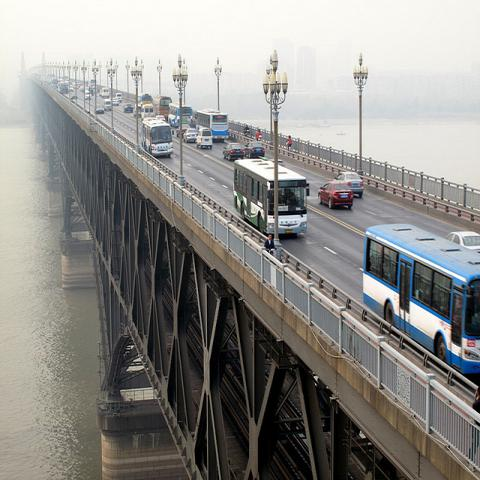bus: (362, 218, 480, 376), (233, 156, 311, 237), (141, 118, 174, 156), (194, 109, 228, 143), (168, 102, 192, 128), (153, 95, 172, 121)
car: (27, 63, 199, 168), (317, 180, 354, 209), (332, 171, 364, 199), (445, 231, 480, 253), (222, 143, 244, 161), (244, 141, 265, 159), (196, 127, 212, 150), (184, 128, 198, 144), (176, 123, 192, 137), (123, 104, 133, 113), (96, 103, 104, 114), (70, 92, 78, 99), (157, 116, 166, 122), (112, 99, 118, 105)
